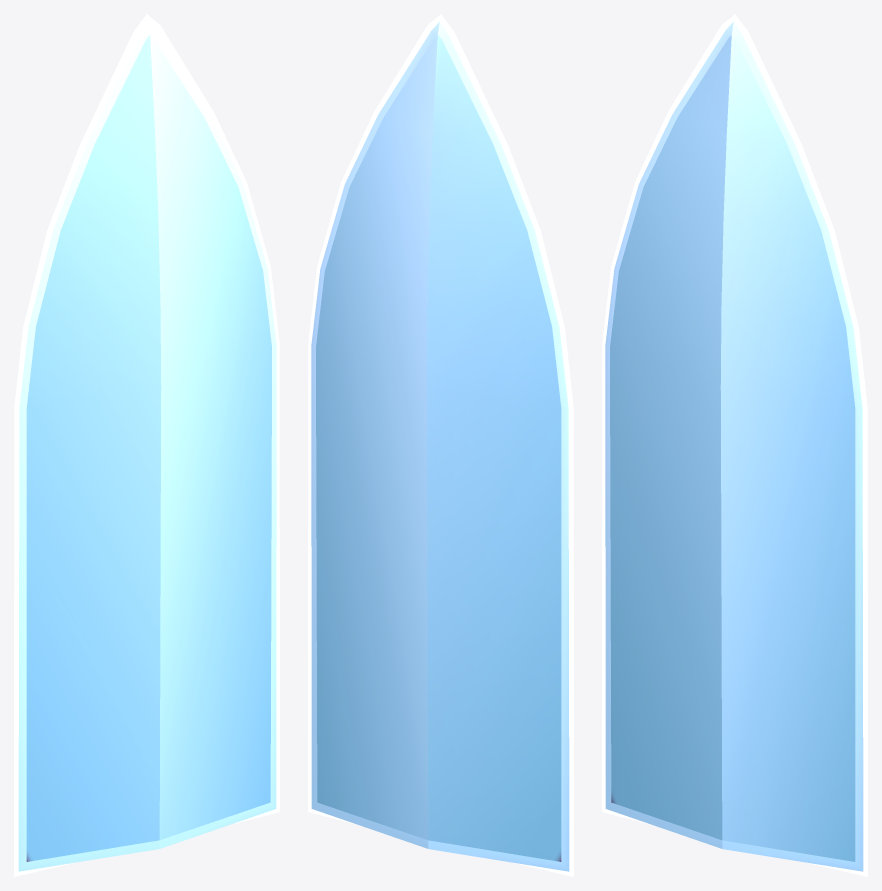
The model's file is steel_blade (8).glb.
The picture shows the model from 3 angles, left to right: view 1: azimuth 30°, elevation 25°; view 2: azimuth 150°, elevation 25°; view 3: azimuth 330°, elevation 25°; orthographic projection.
Parts seen in each view (by area): view 1: steel_blade_steel.055; view 2: steel_blade_steel.055; view 3: steel_blade_steel.055.
Boxes of the visible parts, x1,y1,x2,y2 form: steel_blade_steel.055: (14, 14, 279, 876); steel_blade_steel.055: (308, 14, 573, 876); steel_blade_steel.055: (602, 14, 867, 876).
Size of the model in its own units: 3.82 by 11.43 by 0.706.
Materials: 1 (1 with a texture image).
